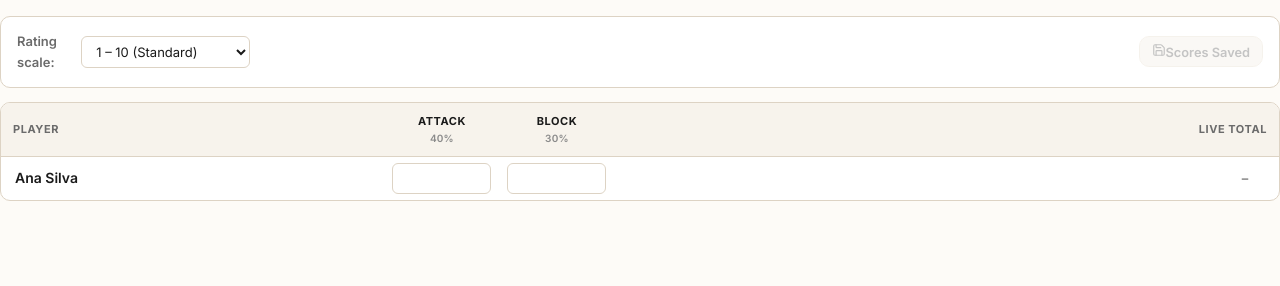
SpreadsheetScoreGrid editing › surfaces a server rejection and keeps the typed values
This screenshot has width=1280, height=286.
In the field named "Ana Silva Attack": coordinates (442, 179) [392,163,491,194], type "8"
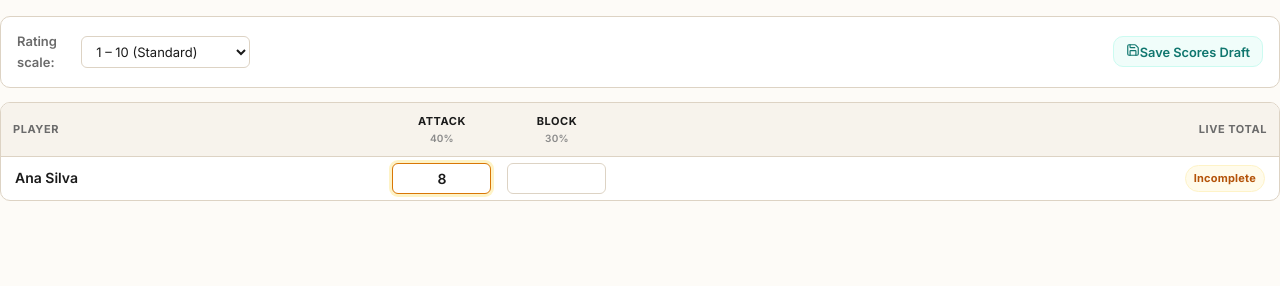
Click the button "Save Scores Draft": coordinates (1188, 52) [1113,36,1263,67]
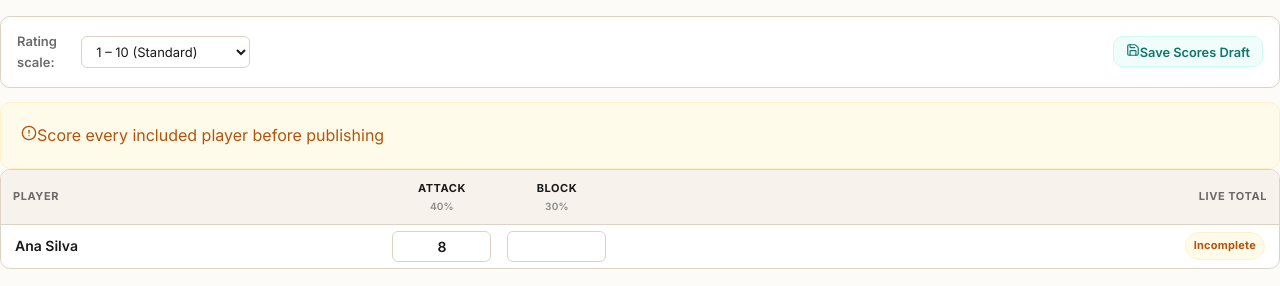
Result: the message reads "Score every included player before publishing" at [37,125,384,145]
